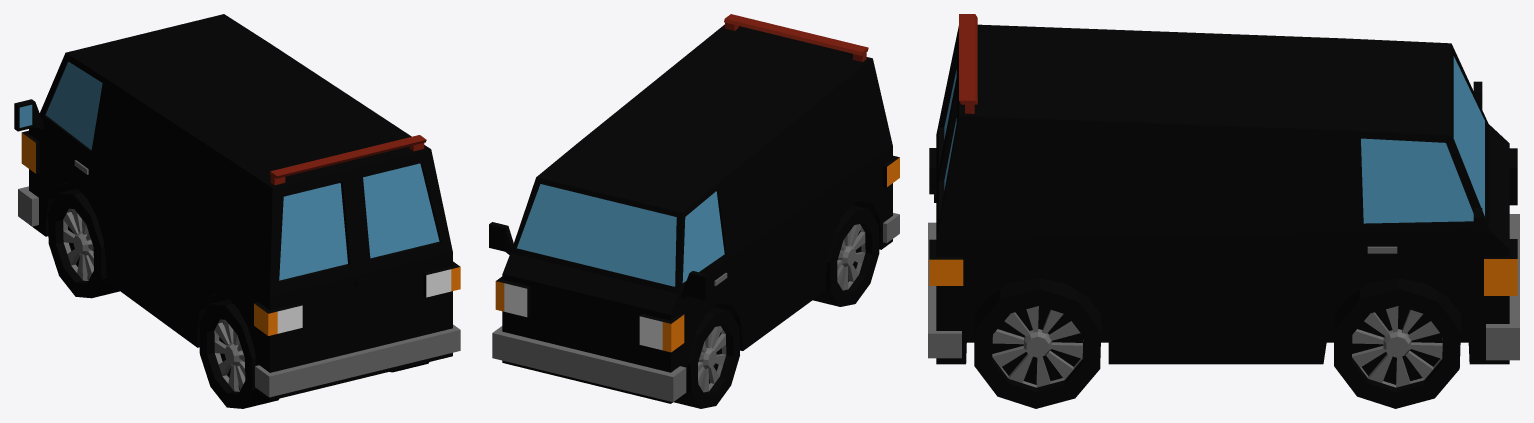
File: miniVan.fbx
3 views of the same model, side by side, from view 1: azimuth 30°, elevation 25°; view 2: azimuth 150°, elevation 25°; view 3: azimuth 270°, elevation 25° (orthographic). The views are drawn at different scales.
Parts seen in each view (by area): view 1: car001.006; view 2: car001.006; view 3: car001.006.
Part boxes in pixels (<box>): car001.006: <box>14,14,460,408</box>; car001.006: <box>489,14,899,408</box>; car001.006: <box>928,14,1519,408</box>.
Bounding box in the file's own units: 112 × 114 × 206.
